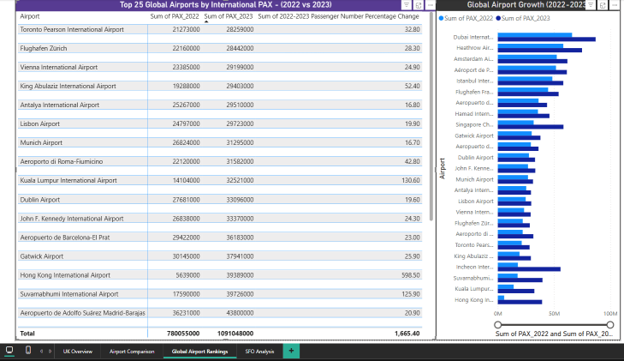

This screenshot's page, from the dashboard's own definition file:
{"tool":"powerbi","page":{"name":"Global Airport Rankings","canvas":[1280,720],"ordinal":2},"visuals":[{"type":"pivotTable","title":"Top 25 Global Airports by International PAX - (2022 vs 2023)","fields":{"Rows":["AVI0301.Airport"],"Values":["Sum(AVI0301.PAX_2022)","Sum(AVI0301.PAX_2023)","Sum(AVI0301.2022-2023 Passenger Number Percentage Change)"]},"box":[0,0,890.5,720],"z":0},{"type":"clusteredBarChart","title":"Global Airport Growth (2022-2023)","fields":{"Category":["AVI0301.Airport"],"Y":["Sum(AVI0301.PAX_2022)","Sum(AVI0301.PAX_2023)"]},"box":[890.5,0,389.9,720],"z":1000}]}

Visuals, with their boxes in screenshot pixels (x1, y1, x2, y2):
"Top 25 Global Airports by International PAX - (2022 vs 2023)" pivotTable: pyautogui.locateOnScreen(23, 8, 436, 342)
"Global Airport Growth (2022-2023)" clusteredBarChart: pyautogui.locateOnScreen(436, 8, 616, 342)
